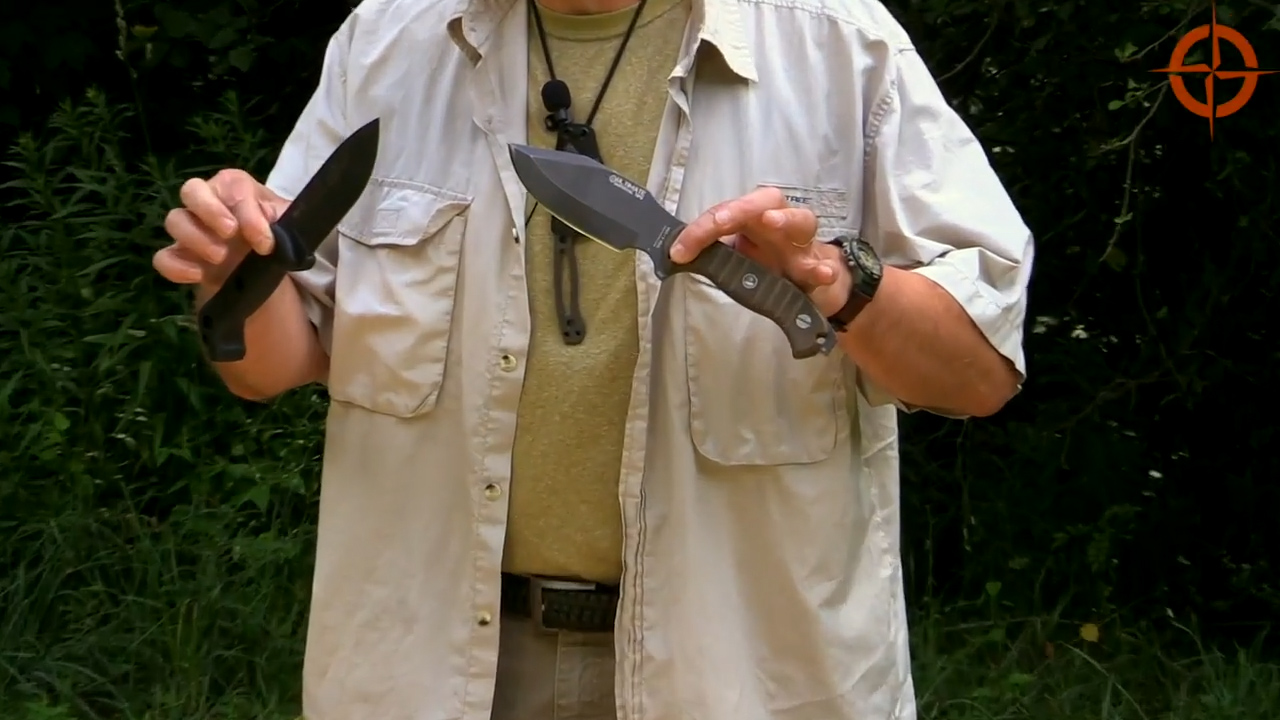knife: (501, 131, 841, 365), (194, 107, 391, 367)
